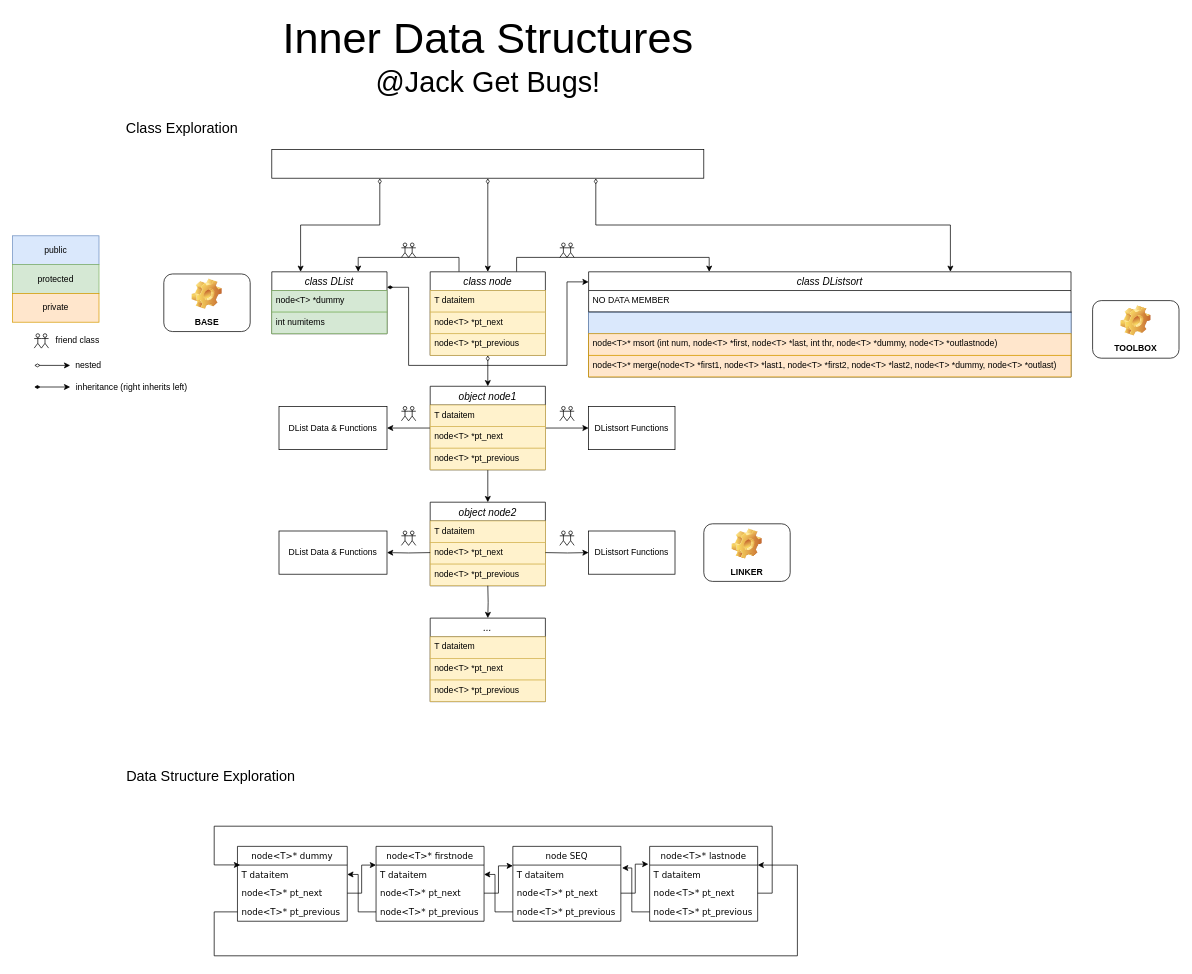
Some shapes in this 1192 by 974 pixel diagram are drawn without their labels. The centre of each missing label's shape, as x and y in pixels:
"template <class T>" belongs at (487,163).
"void mergesort (int thr)" belongs at (829,322).
